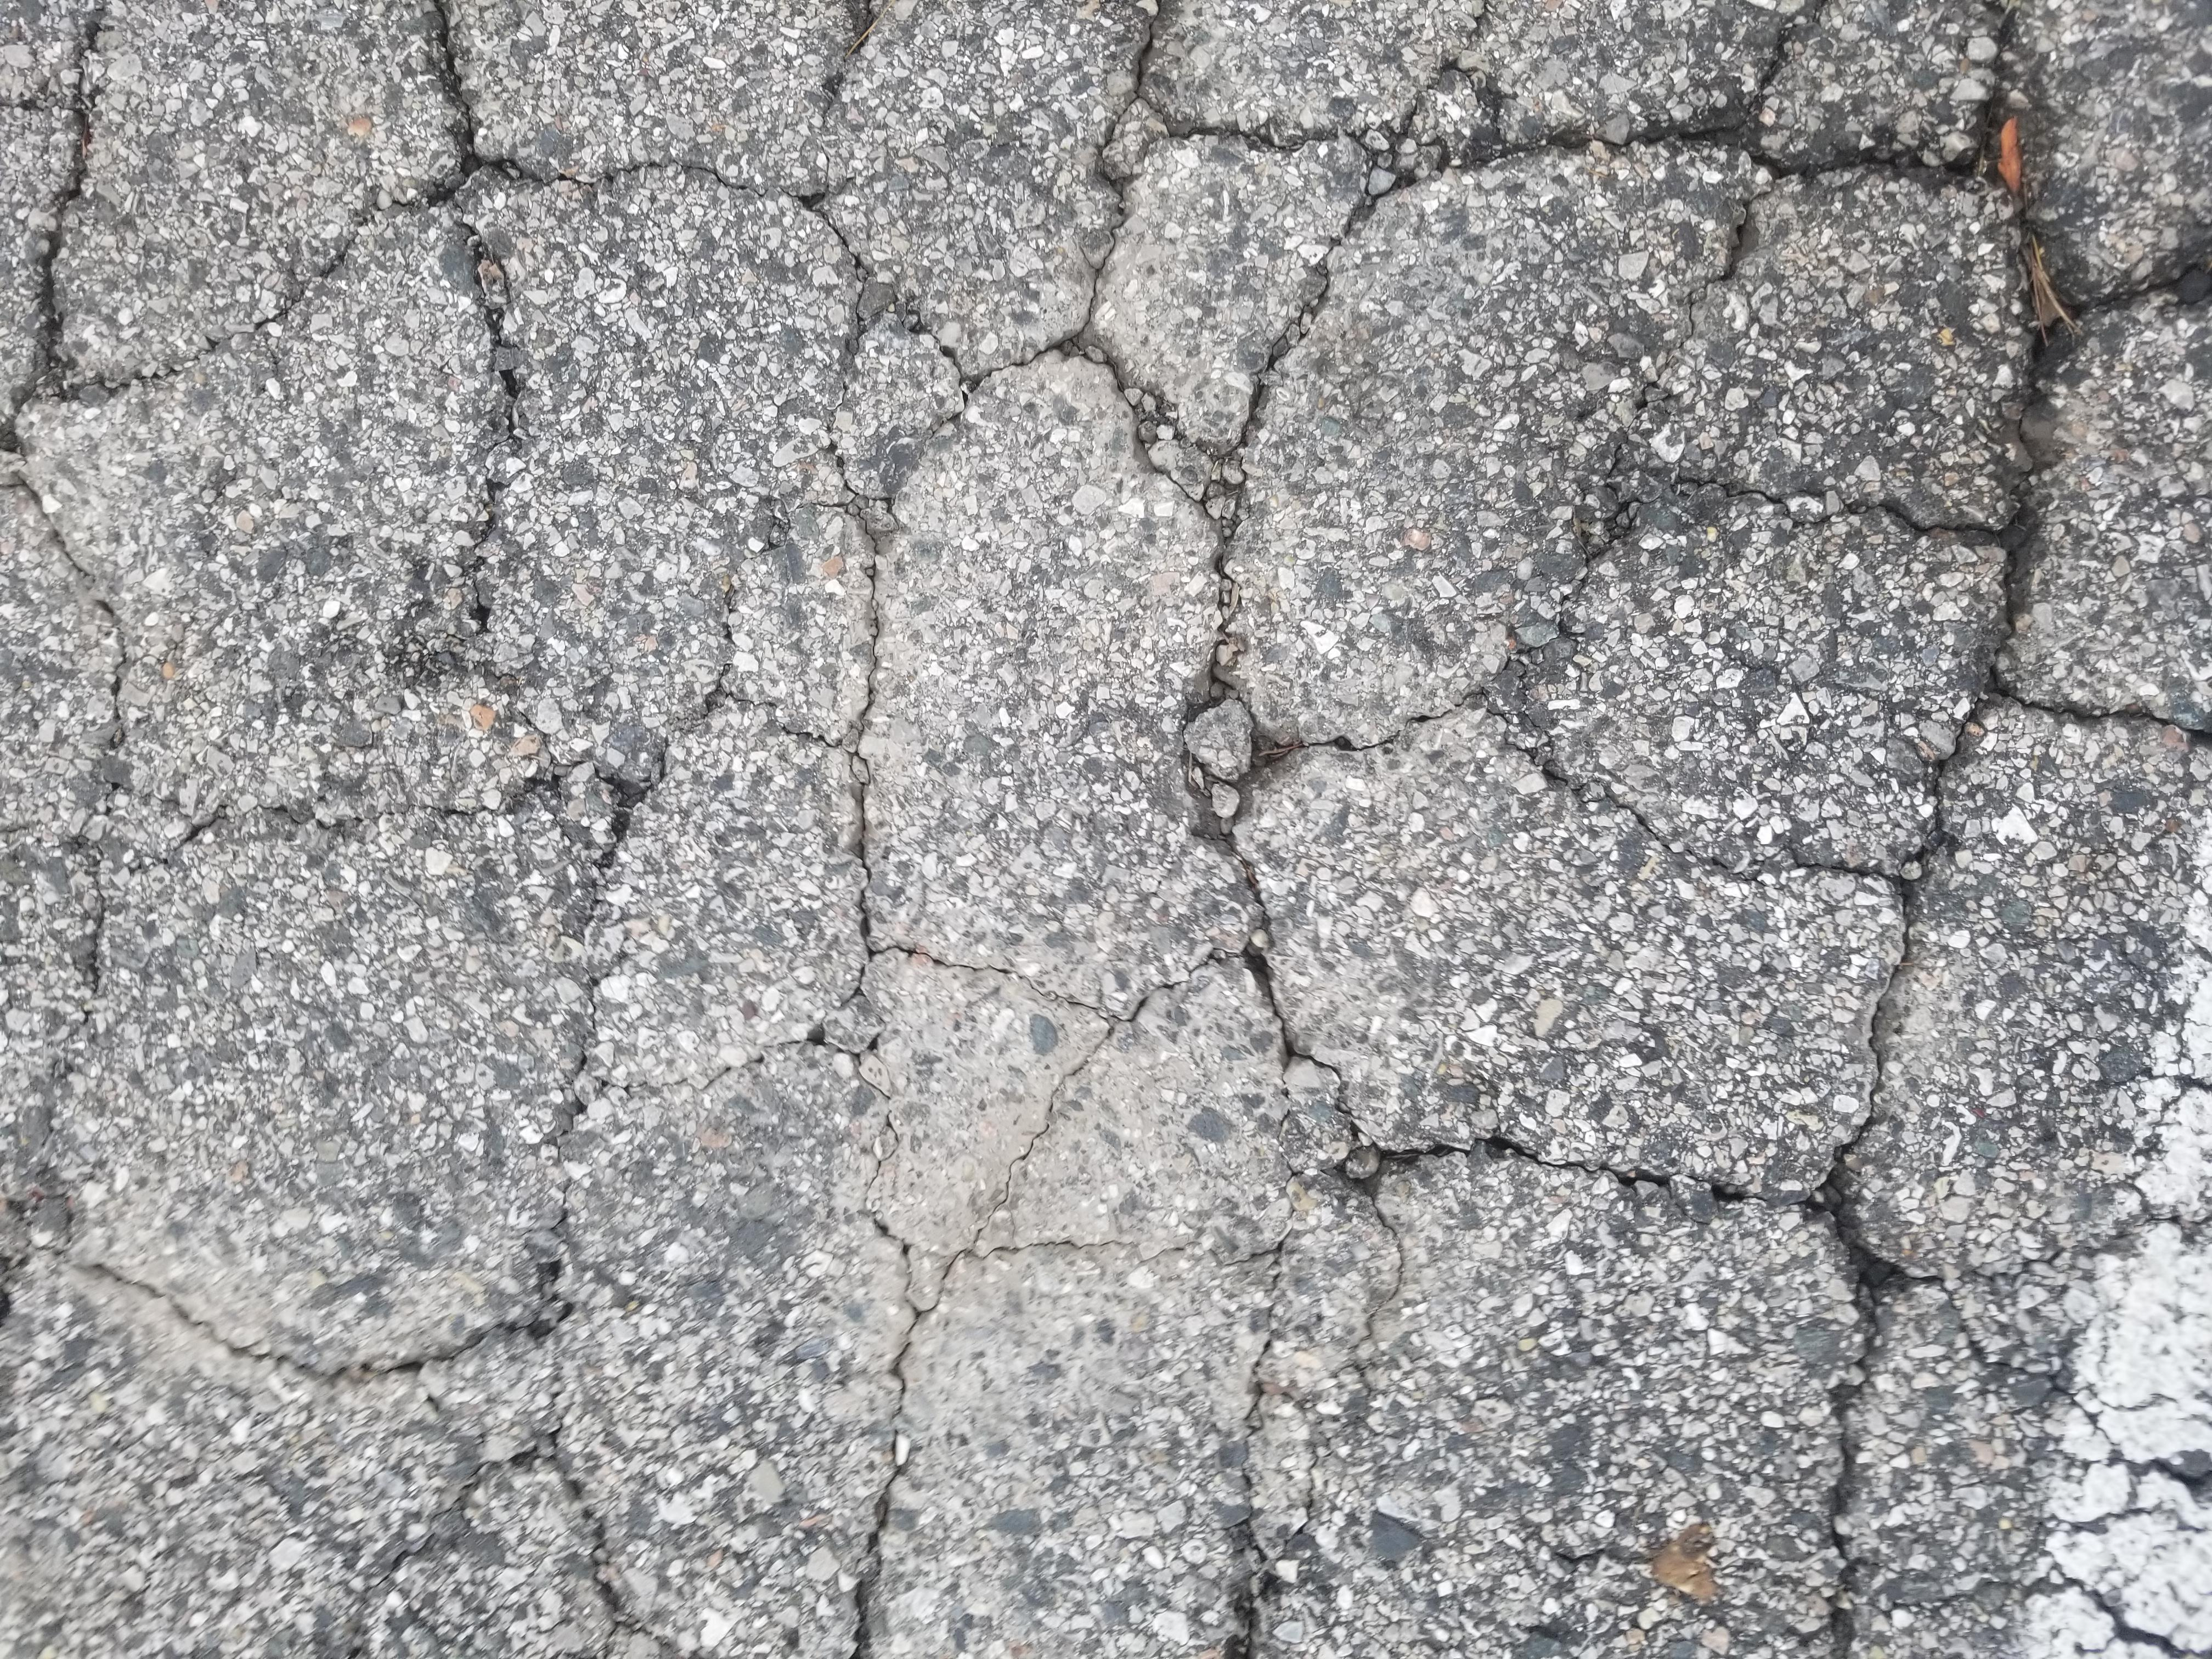alligator-crack: (12, 12, 2212, 1659)
